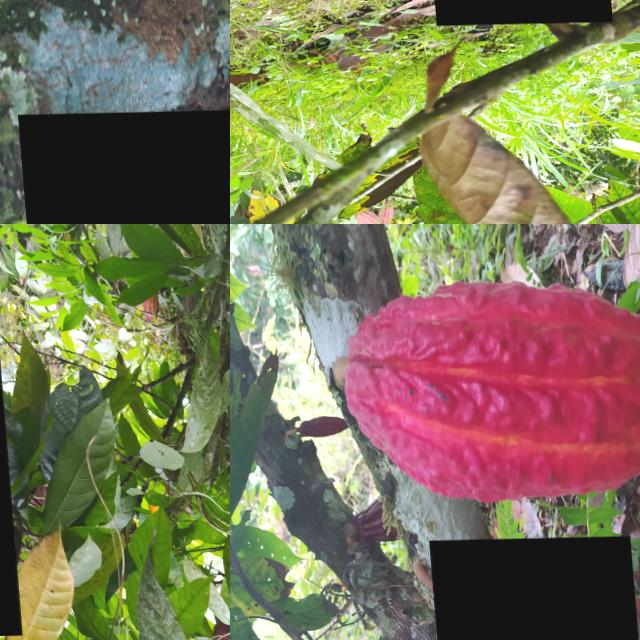Monilia: (14, 111, 230, 224), (423, 538, 633, 640)
Sana: (332, 276, 640, 507), (292, 416, 345, 438)
